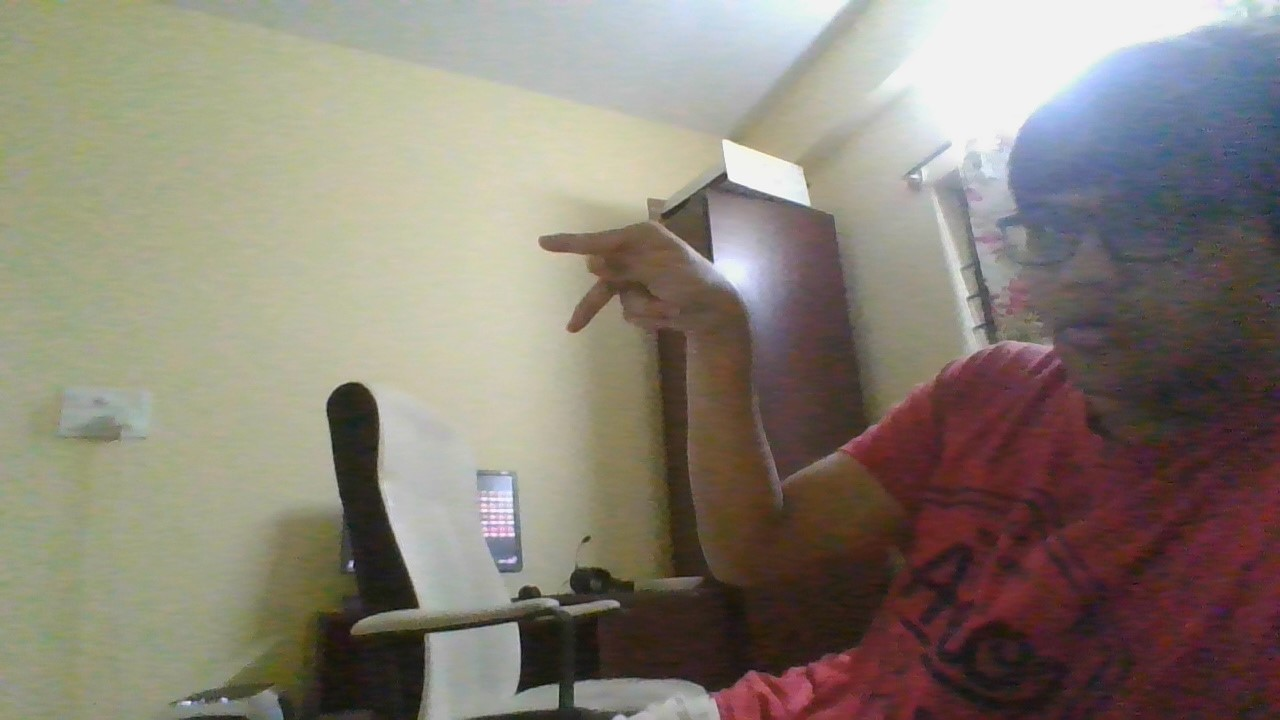p: (536, 218, 752, 336)
